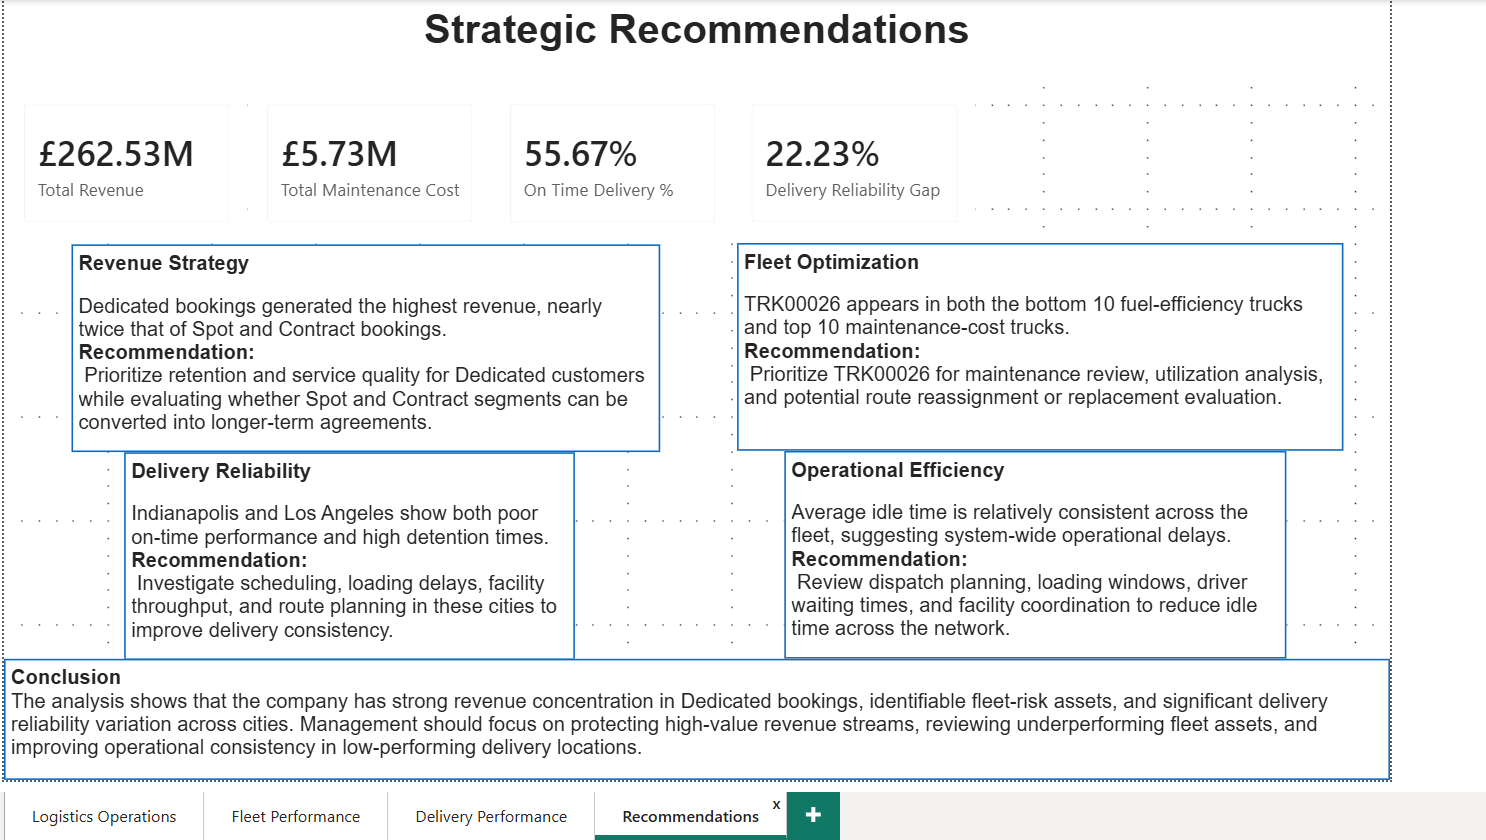

This screenshot's page, from the dashboard's own definition file:
{"tool":"powerbi","page":{"name":"Recommendations ","canvas":[1280,720],"ordinal":3},"visuals":[{"type":"textbox","box":[0,0,1280,80],"z":0},{"type":"cardVisual","fields":{"Data":["loads.Total Revenue"]},"box":[1.8,79,224,144],"z":1},{"type":"cardVisual","fields":{"Data":["maintenance_records5.Total Maintenance Cost"]},"box":[225.8,79,224,144],"z":2},{"type":"cardVisual","fields":{"Data":["delivery_events6.On Time %"]},"box":[449.8,79,224,144],"z":3},{"type":"cardVisual","fields":{"Data":["delivery_events6.Delivery Reliability Gap"]},"box":[673.8,79,224,144],"z":4},{"type":"textbox","box":[62.7,225.5,544,192],"z":5},{"type":"textbox","box":[677.6,224.5,560,192],"z":6},{"type":"textbox","box":[110.7,417.5,416,192],"z":7},{"type":"textbox","box":[720,416,464,192],"z":8},{"type":"textbox","box":[0,608,1280,112],"z":9}]}

Visuals, with their boxes on the page's 1280x720 design canvas (x1, y1, x2, y2). These are canvas units, not pixel positions in the 1486x840 screenshot, which may show the page scaled, cropped or inside an application window:
textbox: 0:0:1280:80
cardVisual - loads.Total Revenue: 2:79:226:223
cardVisual - maintenance_records5.Total Maintenance Cost: 226:79:450:223
cardVisual - delivery_events6.On Time %: 450:79:674:223
cardVisual - delivery_events6.Delivery Reliability Gap: 674:79:898:223
textbox: 63:226:607:418
textbox: 678:224:1238:416
textbox: 111:418:527:610
textbox: 720:416:1184:608
textbox: 0:608:1280:720
